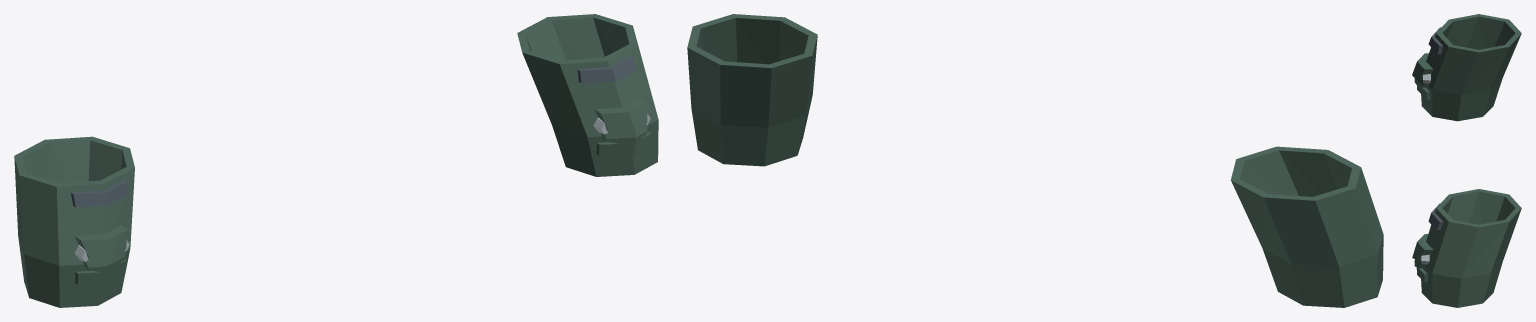
Rendered from studded_wrists-male-scaledHide.glb.
3 renders of one model, left to right at view 1: azimuth 30°, elevation 25°; view 2: azimuth 150°, elevation 25°; view 3: azimuth 270°, elevation 25°, orthographic. The views are drawn at different scales.
Parts seen in each view (by area): view 1: studded wrist guard -1, studded wrist guard 1, Lapped hide reinforcement studded wrist guard 1 0, Lapped hide reinforcement studded wrist guard -1 0, Bracer rolled upper lip 1, Bracer rolled upper lip -1, Bracer lower fastening strap 1, Bracer lower fastening strap -1, Lapped hide reinforcement studded wrist guard 1 1; view 2: studded wrist guard -1, studded wrist guard 1; view 3: studded wrist guard 1, studded wrist guard -1, Lapped hide reinforcement studded wrist guard 1 0, Lapped hide reinforcement studded wrist guard -1 0, Bracer rolled upper lip 1, Bracer rolled upper lip -1, Bracer lower fastening strap -1, Bracer lower fastening strap 1, Lapped hide reinforcement studded wrist guard -1 1.
Part boxes in pixels (box(x1,y1,x2,y2)): studded wrist guard -1: box(14, 136, 134, 307); studded wrist guard 1: box(517, 14, 658, 176); Lapped hide reinforcement studded wrist guard 1 0: box(595, 98, 647, 135); Lapped hide reinforcement studded wrist guard -1 0: box(75, 225, 127, 263); Bracer rolled upper lip 1: box(577, 56, 635, 83); Bracer rolled upper lip -1: box(71, 180, 128, 207); Bracer lower fastening strap 1: box(596, 132, 651, 155); Bracer lower fastening strap -1: box(75, 259, 126, 284); Lapped hide reinforcement studded wrist guard 1 1: box(601, 125, 647, 145); studded wrist guard -1: box(1231, 146, 1383, 307); studded wrist guard 1: box(687, 14, 817, 166); studded wrist guard 1: box(1421, 189, 1521, 307); studded wrist guard -1: box(1421, 14, 1521, 121); Lapped hide reinforcement studded wrist guard 1 0: box(1412, 234, 1433, 260); Lapped hide reinforcement studded wrist guard -1 0: box(1412, 53, 1433, 79); Bracer rolled upper lip 1: box(1428, 203, 1443, 230); Bracer rolled upper lip -1: box(1428, 27, 1443, 54); Bracer lower fastening strap -1: box(1417, 85, 1430, 99); Bracer lower fastening strap 1: box(1416, 267, 1427, 281); Lapped hide reinforcement studded wrist guard -1 1: box(1414, 77, 1431, 87).
Bounding box in the file's own units: 3.75 × 0.63 × 0.7948.
